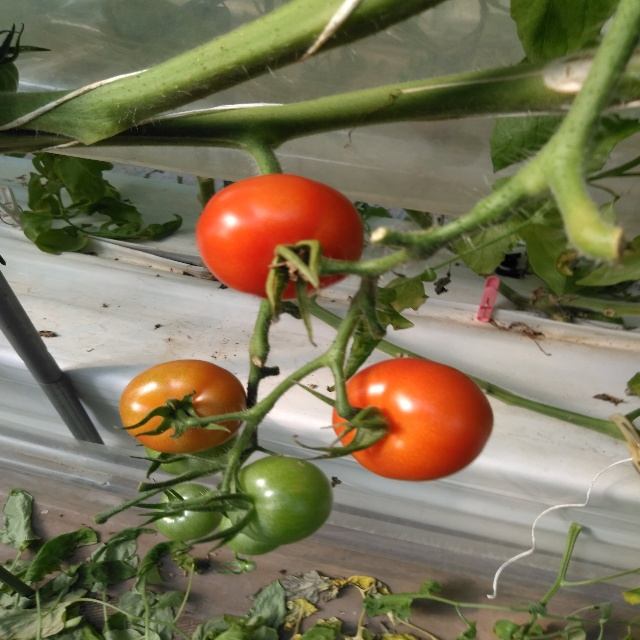l_fully_ripened: (196, 173, 364, 301), (332, 357, 494, 482)
l_green: (225, 456, 333, 544), (144, 430, 240, 477), (153, 483, 222, 542), (219, 512, 281, 555)
l_half_ripened: (118, 359, 247, 454)
